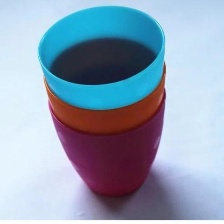glass: (31, 3, 175, 209)
